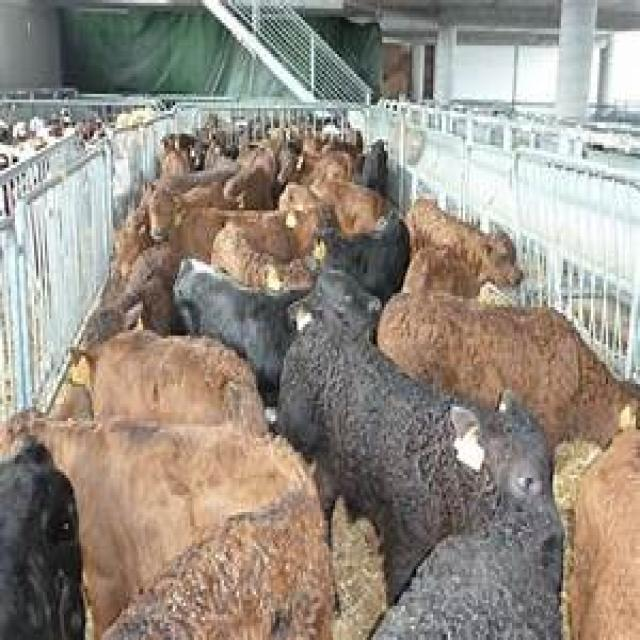cow: (277, 273, 559, 609), (73, 128, 397, 370), (28, 418, 307, 640), (378, 296, 640, 455)
